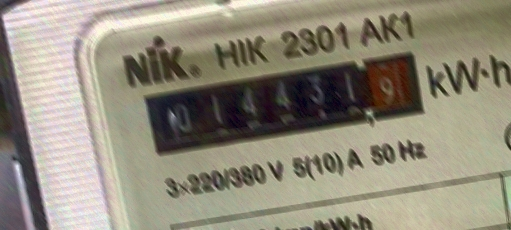0: (171, 99, 195, 134)
1: (206, 90, 228, 125), (342, 69, 359, 102)
3: (305, 72, 328, 107)
4: (237, 83, 262, 118), (271, 76, 293, 112)
9: (377, 72, 397, 105)
screen: (135, 43, 438, 164)
